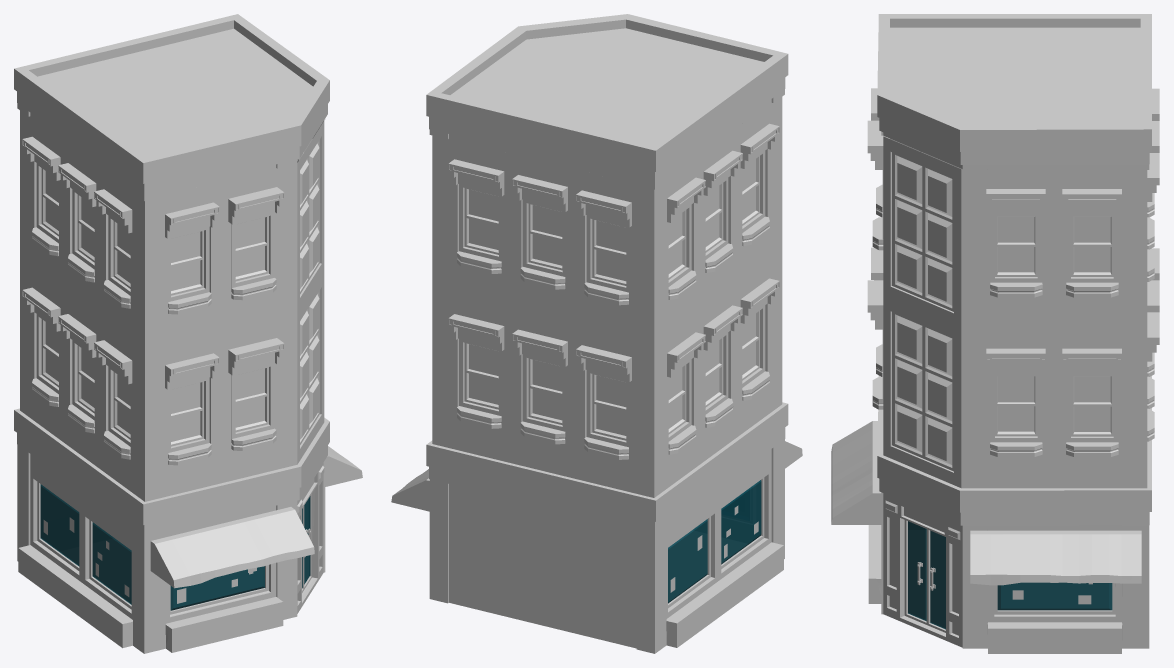
Rendered from shop_02_large.fbx.
3 renders of one model, left to right at view 1: azimuth 30°, elevation 25°; view 2: azimuth 150°, elevation 25°; view 3: azimuth 270°, elevation 25°, orthographic. The views are drawn at different scales.
Visible parts, largest first — view 1: shop_02_large, shop_02_large_glass; view 2: shop_02_large, shop_02_large_glass; view 3: shop_02_large, shop_02_large_glass.
Boxes of the visible parts, bbox=[...] form: shop_02_large: bbox=[14, 14, 362, 653]; shop_02_large_glass: bbox=[40, 484, 310, 610]; shop_02_large: bbox=[391, 14, 802, 653]; shop_02_large_glass: bbox=[668, 480, 761, 603]; shop_02_large: bbox=[831, 14, 1159, 653]; shop_02_large_glass: bbox=[908, 521, 1112, 629].
Size of the model in its own units: 752 by 1305 by 746.
